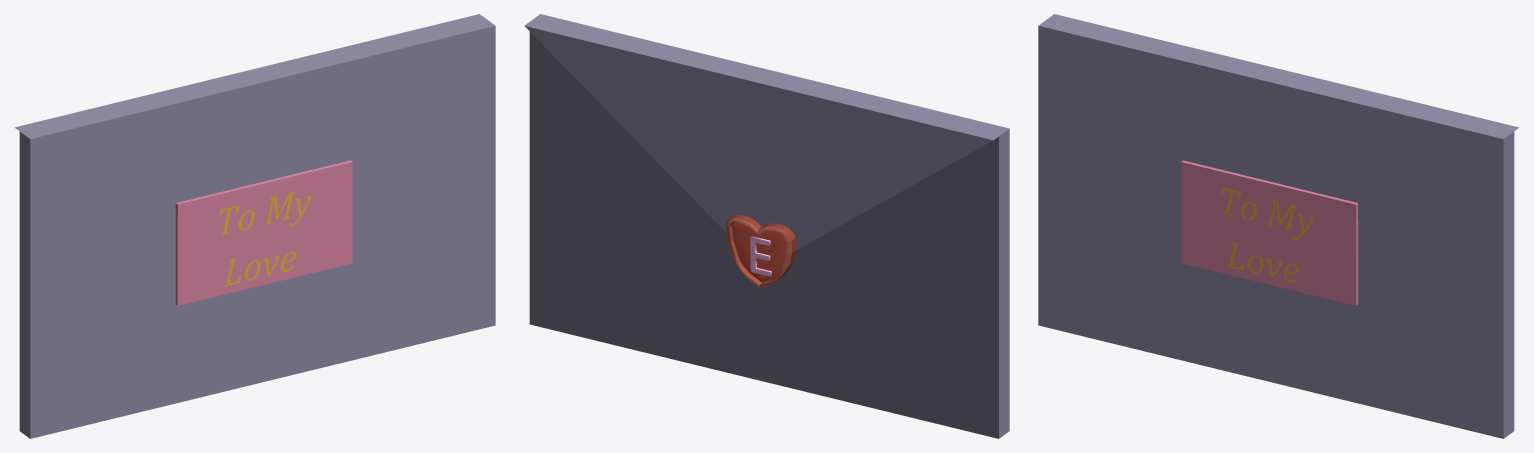
The model's file is LoveLetter.fbx.
The picture shows the model from 3 angles, left to right: view 1: azimuth 30°, elevation 25°; view 2: azimuth 150°, elevation 25°; view 3: azimuth 330°, elevation 25°; orthographic projection.
Parts seen in each view (by area): view 1: Letter; view 2: Letter; view 3: Letter.
Part boxes in pixels (box(x1,y1,x2,y2)): Letter: box(14, 14, 495, 438); Letter: box(524, 14, 1009, 438); Letter: box(1038, 14, 1518, 438).
Bounding box in the file's own units: 200 × 123 × 14.12.
